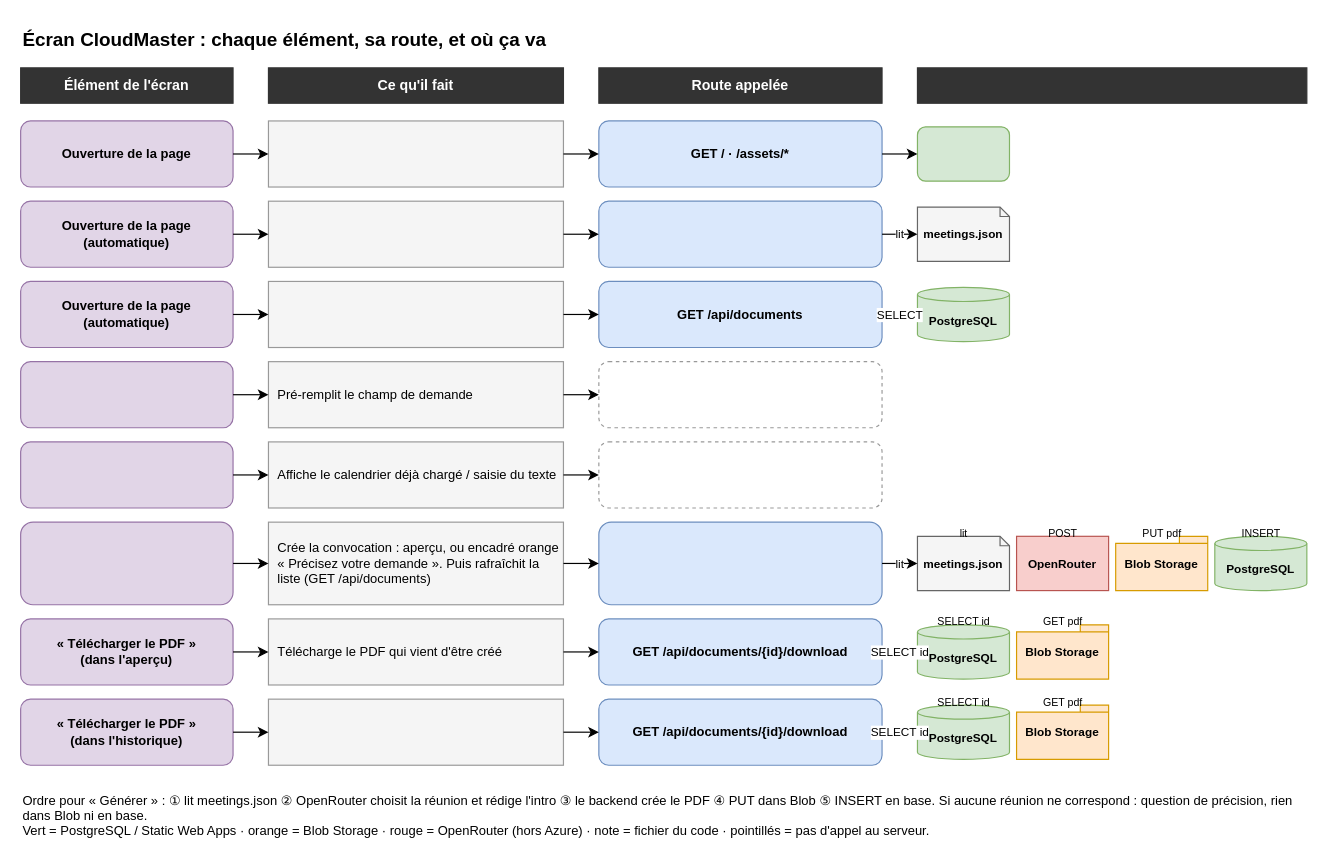
The diagram is 1339 pixels wide and 860 high, and some of its shapes have lost their labels. Each missing label, with the centre of its shape:
"Aucune route" belongs at (x=740, y=474).
"Aucune route (tout se passe dans le navigateur)" belongs at (x=740, y=394).
"Bouton « Générer la convocation »" belongs at (x=126, y=563).
"Boutons « Réunion de <mois> »" belongs at (x=126, y=394).
"Charge le calendrier : boutons d'exemples + « Voir le calendrier source »" belongs at (x=415, y=233).
"GET /api/meetings" belongs at (x=740, y=233).
"Où ça va" belongs at (x=1111, y=85).
"POST /api/documents/generate" belongs at (x=740, y=563).
"Remplit la liste « Convocations générées »" belongs at (x=415, y=314).
"Static Web Apps" belongs at (x=962, y=153).
"Télécharge l'interface (HTML, JS)" belongs at (x=415, y=153).
"Télécharge une ancienne convocation" belongs at (x=415, y=731).
"« Voir le calendrier source » + champ « Votre demande »" belongs at (x=126, y=474).
